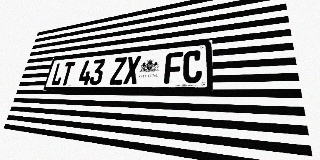3: (89, 59, 106, 85)
4: (77, 60, 94, 85)
C: (182, 50, 202, 83)
F: (164, 52, 183, 84)
L: (50, 62, 66, 85)
T: (60, 62, 75, 85)
X: (123, 55, 141, 84)
Z: (109, 57, 127, 85)
